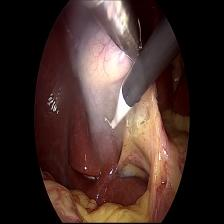Grasper: (118, 14, 146, 56)
Hook: (97, 86, 137, 138)
